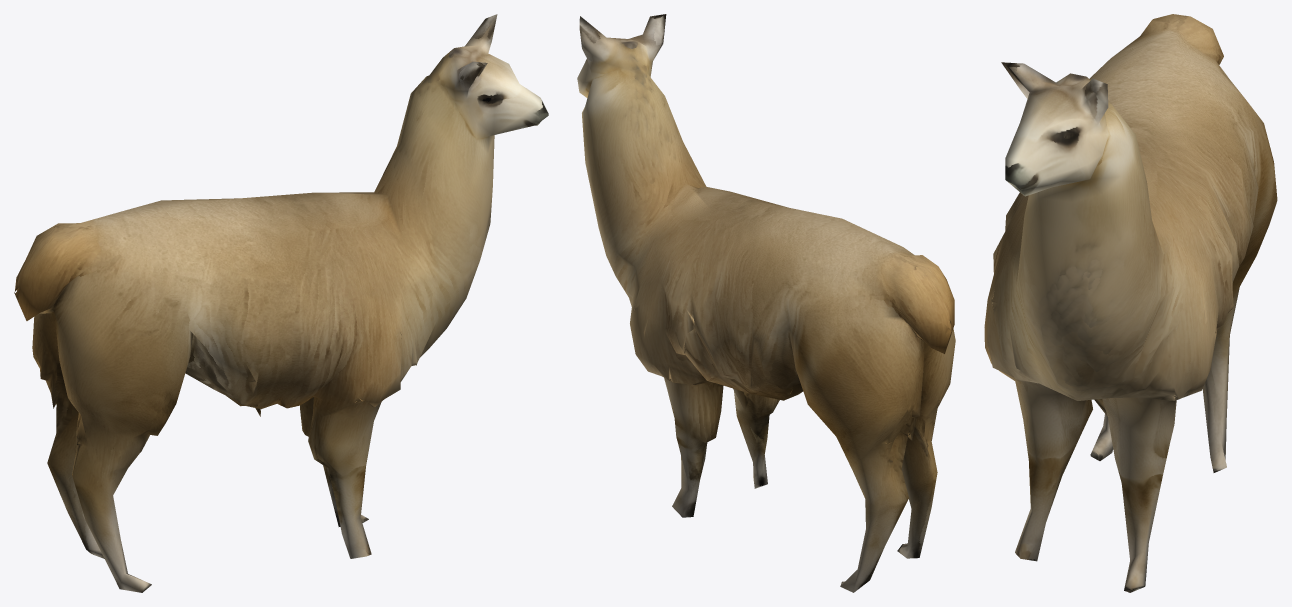
Rendered from llama_single_1500.glb.
3 views of the same model, side by side, from view 1: azimuth 30°, elevation 25°; view 2: azimuth 150°, elevation 25°; view 3: azimuth 270°, elevation 25° (orthographic). The views are drawn at different scales.
Size of the model in its own units: 0.7959 by 0.8209 by 0.3673.
1 material, 1 textured.
